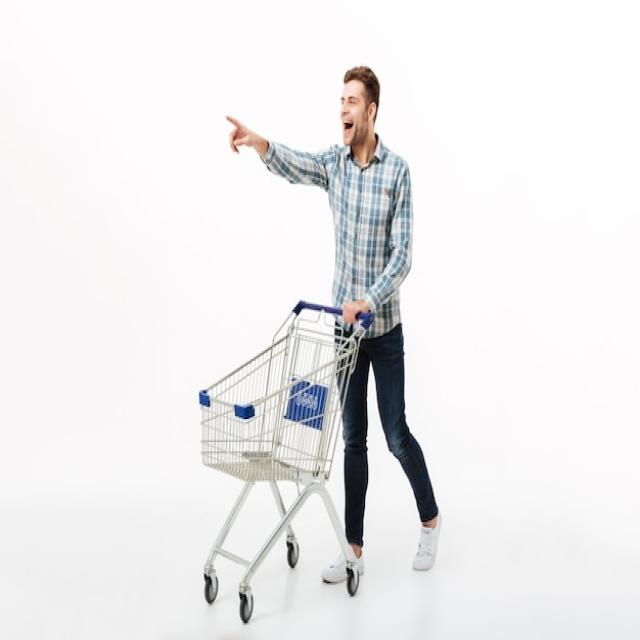Person: (226, 65, 441, 586)
